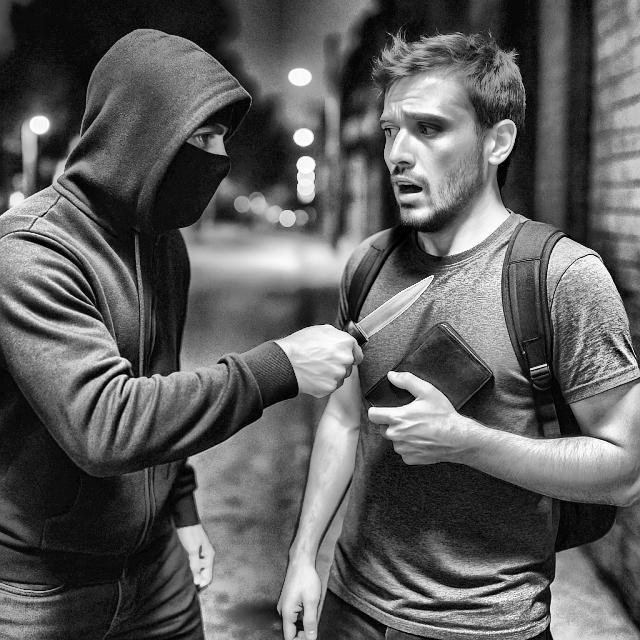pisau: (286, 265, 441, 376)
robbery: (0, 0, 639, 640)
